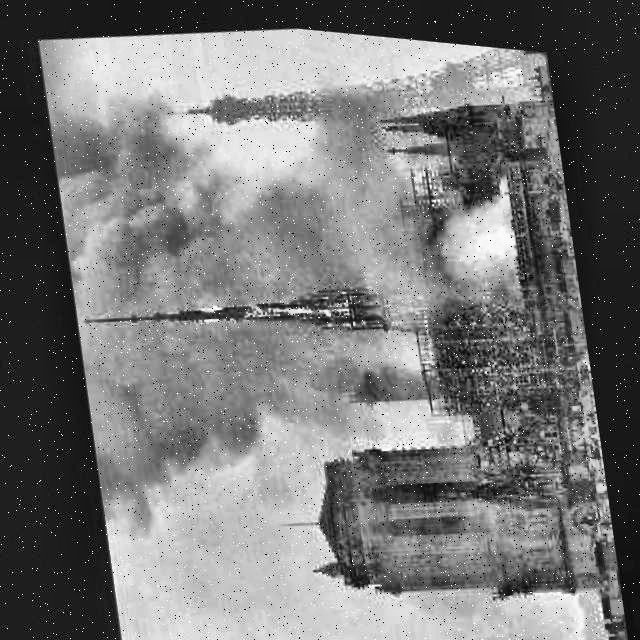Fire: (443, 193, 522, 266)
Smoke: (51, 73, 475, 552)
